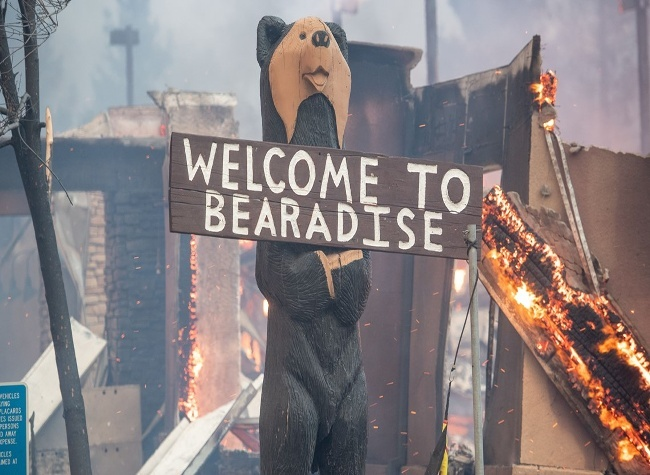Fire: (501, 273, 550, 321), (187, 348, 207, 424), (604, 333, 647, 365), (531, 72, 559, 107)
